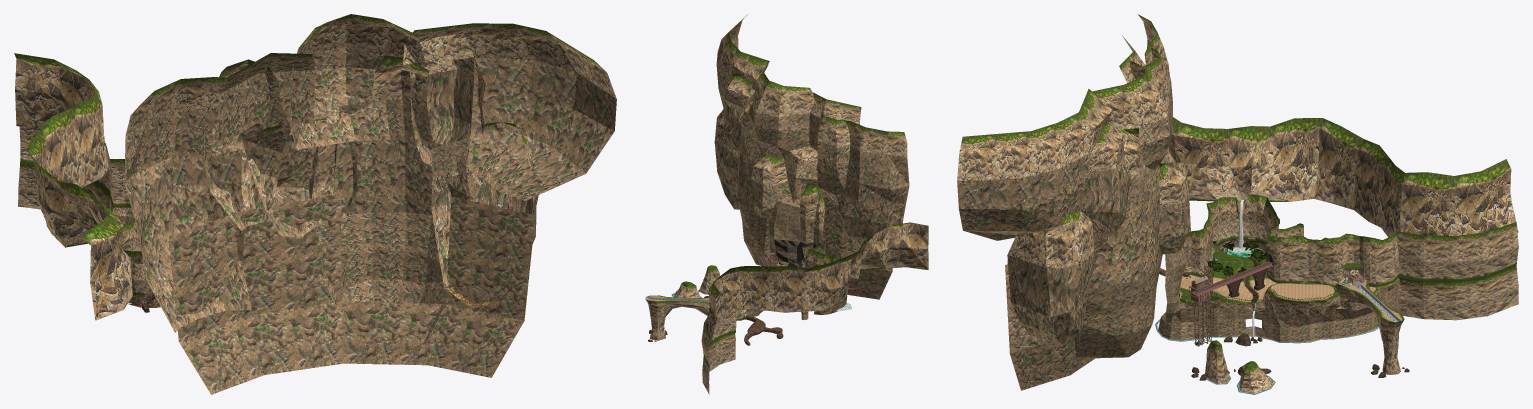
The model's file is mystic-ruins.glb.
3 renders of one model, left to right at view 1: azimuth 30°, elevation 25°; view 2: azimuth 150°, elevation 25°; view 3: azimuth 270°, elevation 25°, orthographic. The views are drawn at different scales.
Visible parts, largest first — view 1: object_000FF5AC-col, object_000C2238-col, object_000AF3D4-col, object_000B2654-col; view 2: object_000FF5AC-col, object_000C2238-col, object_000BFFC8-col, object_000BE618-col, object_0010C330-col, object_000AF3D4-col, object_000C06F4-col, object_000ACDFC, object_00107CF8-col, object_00108678-col; view 3: object_000FF5AC-col, object_000C2238-col, object_000B2654-col, object_00100DA8-col, object_000AF3D4-col, object_00101F6C-col, object_00120B1C-col, object_000BFFC8-col, object_0010C330-col, object_000A5F5C-col, object_000AA754-col, object_00108678-col (+4 smaller).
Boxes of the visible parts, bbox=[...] form: object_000FF5AC-col: bbox=[124, 14, 616, 394]; object_000C2238-col: bbox=[14, 53, 132, 320]; object_000AF3D4-col: bbox=[122, 221, 151, 289]; object_000B2654-col: bbox=[110, 159, 130, 207]; object_000FF5AC-col: bbox=[714, 14, 909, 299]; object_000C2238-col: bbox=[701, 222, 928, 394]; object_000BFFC8-col: bbox=[768, 189, 813, 267]; object_000BE618-col: bbox=[799, 183, 818, 244]; object_0010C330-col: bbox=[646, 300, 681, 340]; object_000AF3D4-col: bbox=[804, 245, 848, 295]; object_000C06F4-col: bbox=[813, 195, 824, 246]; object_000ACDFC: bbox=[774, 239, 819, 267]; object_00107CF8-col: bbox=[673, 281, 701, 298]; object_00108678-col: bbox=[699, 265, 719, 294]; object_000FF5AC-col: bbox=[957, 14, 1190, 390]; object_000C2238-col: bbox=[1169, 117, 1518, 320]; object_000B2654-col: bbox=[1266, 218, 1399, 286]; object_00100DA8-col: bbox=[1255, 277, 1399, 343]; object_000AF3D4-col: bbox=[1182, 194, 1278, 276]; object_00101F6C-col: bbox=[1158, 296, 1255, 340]; object_00120B1C-col: bbox=[1262, 287, 1340, 318]; object_000BFFC8-col: bbox=[1165, 246, 1186, 323]; object_0010C330-col: bbox=[1371, 303, 1404, 374]; object_000A5F5C-col: bbox=[1268, 281, 1337, 299]; object_000AA754-col: bbox=[1180, 274, 1253, 302]; object_00108678-col: bbox=[1205, 340, 1229, 383].
Size of what is drawn, in the model's own units: 498 by 372 by 661.
124 materials, 124 textured.
